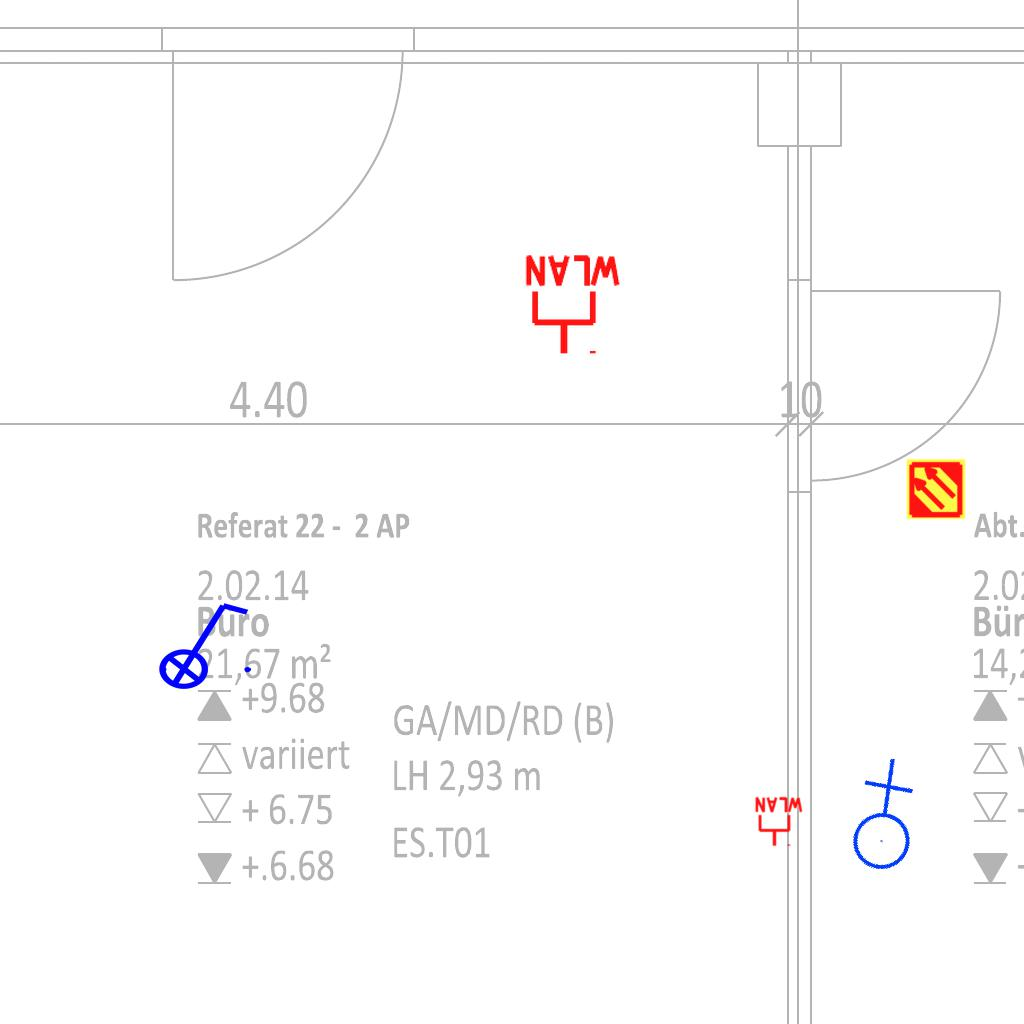ASR_Ansaugrauchmelder: (905, 458, 967, 520)
Ausschalter_beleuchtet: (145, 595, 257, 691)
Elektroanschluss_allgemein_230V_Geraeteanschlussdose_230V: (812, 752, 949, 888)
WLAN: (521, 253, 625, 358), (753, 796, 805, 848)
